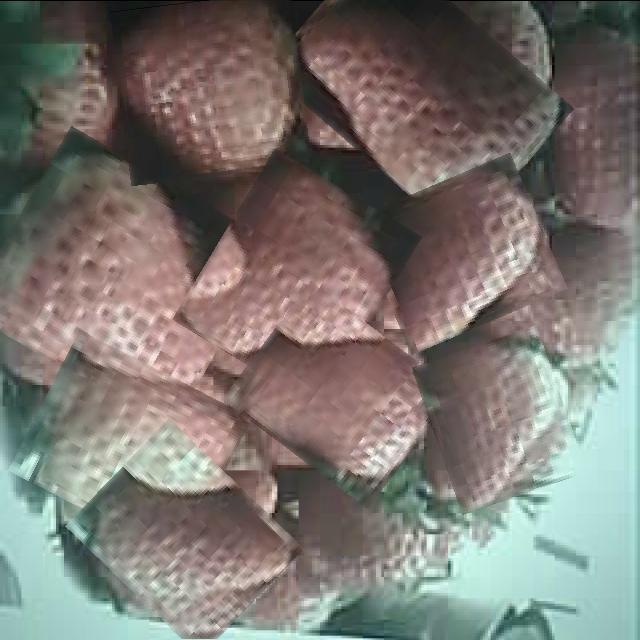strawberry: (0, 148, 260, 407), (276, 0, 561, 207), (191, 163, 402, 393), (21, 348, 240, 541), (77, 440, 291, 634), (235, 301, 444, 489), (115, 0, 307, 181), (364, 167, 556, 341), (422, 334, 576, 507)
